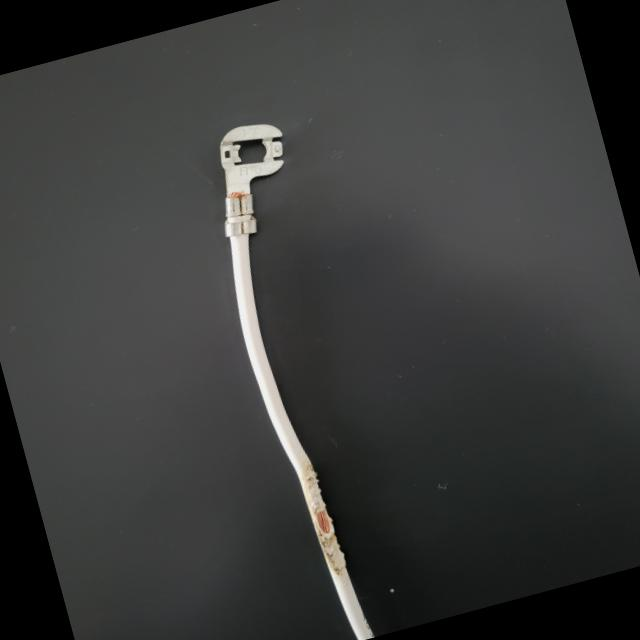defect: (241, 432, 378, 597)
